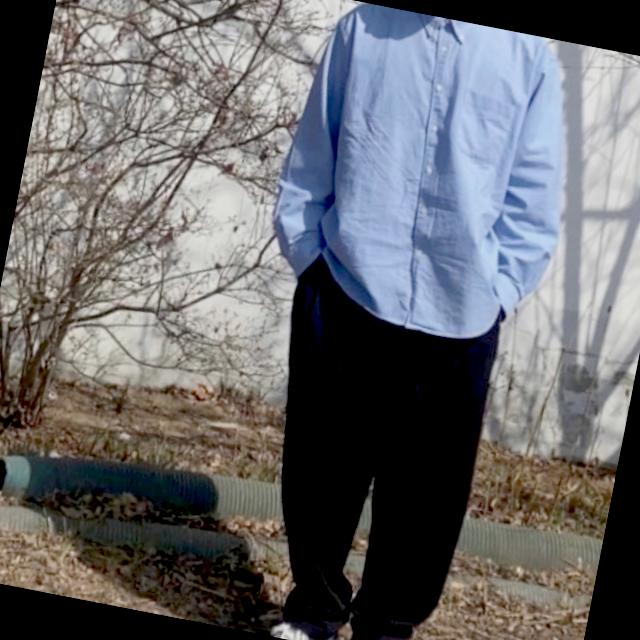shirt: (256, 0, 596, 355)
slacks: (236, 239, 520, 640)
